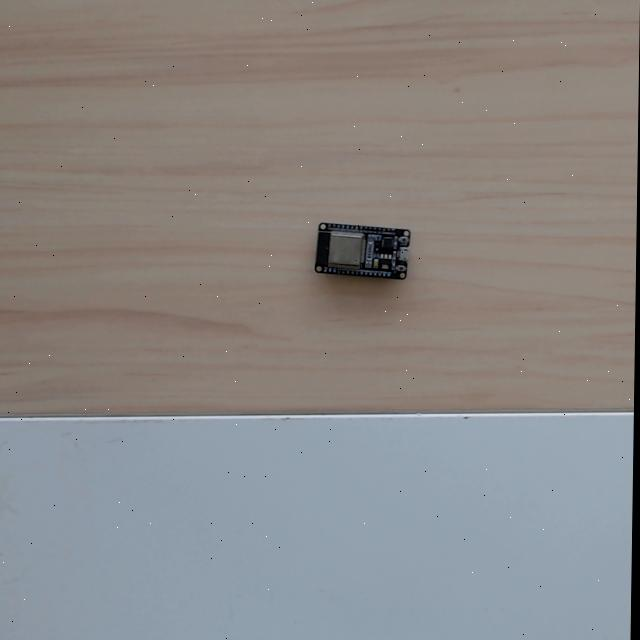ESP32-DevKit: (311, 218, 415, 284)
